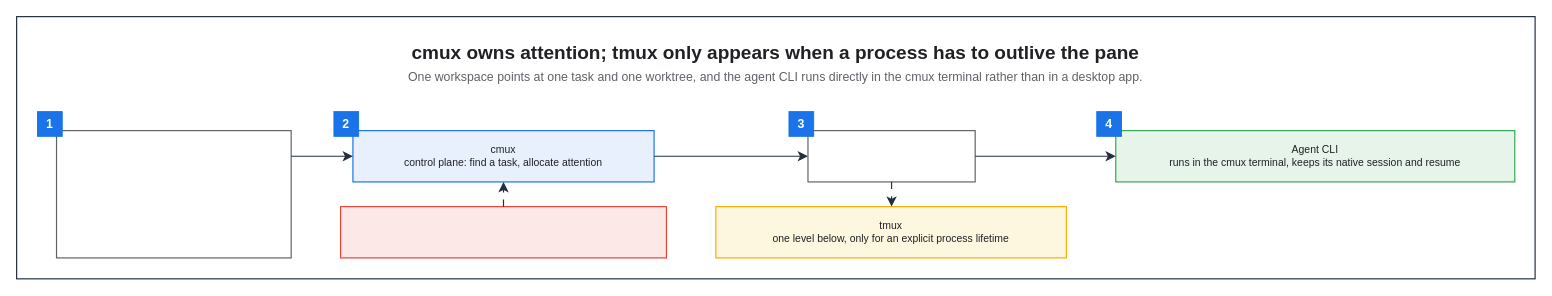
Image size: 1552x296. Some labels were removed from this diagram. The centre of each missing label's shape, as x and y in pixels:
Developer states the task, reviews the result: the point at 173,194
Ghostty independent terminal for cmux failure and recovery: the point at 503,232
Workspace one task, one worktree: the point at 891,156
